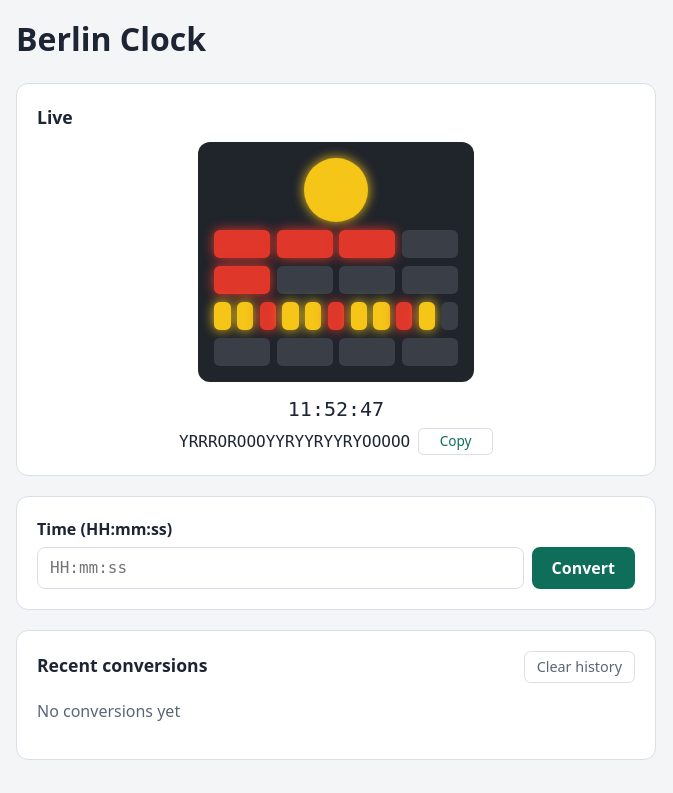
Test case: Converting a time › ignores spaces around the time typed, as when it is pasted
Type " 16:50:06 " into the field labelled "Time (HH:mm:ss)" at (280, 568), box [37,547,524,589]
Then press Enter
(page scrolled)
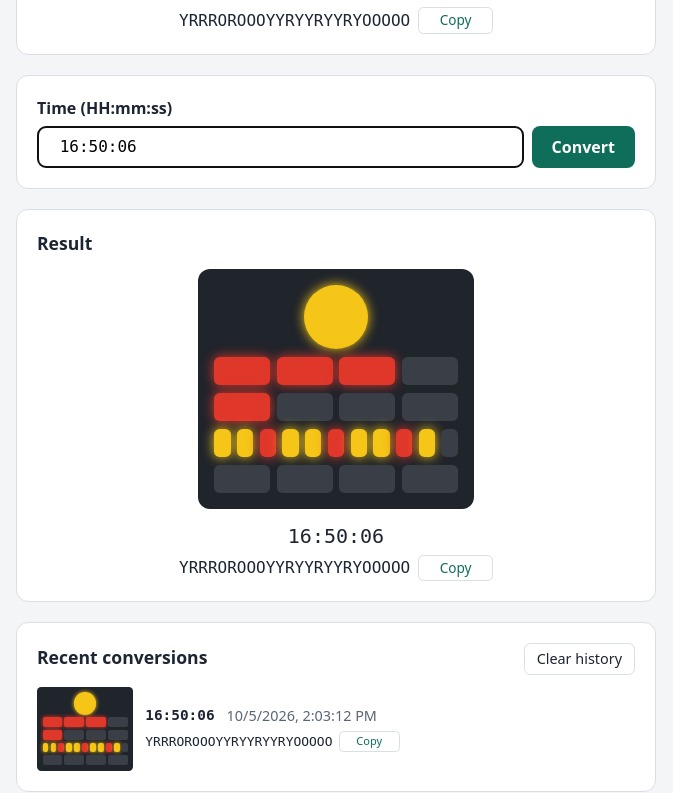
Result: the picture named "Berlin Clock showing 16:50:06" below "Result" is shown at [198,269,474,509]
